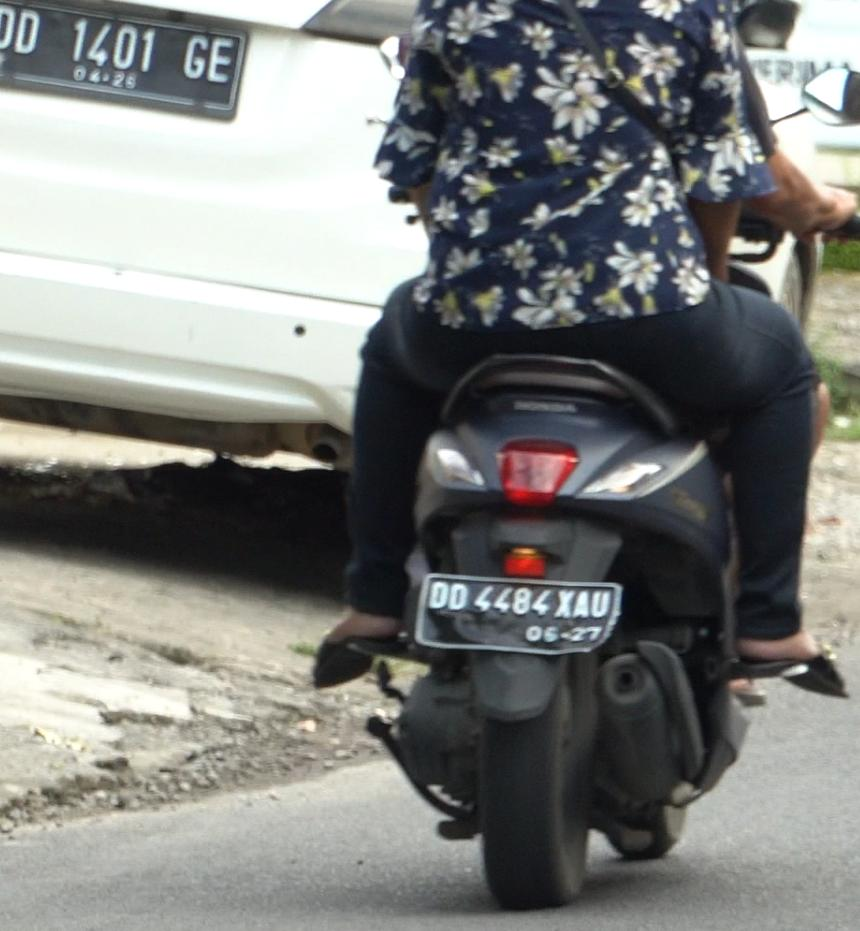number-plate: (410, 569, 623, 660)
